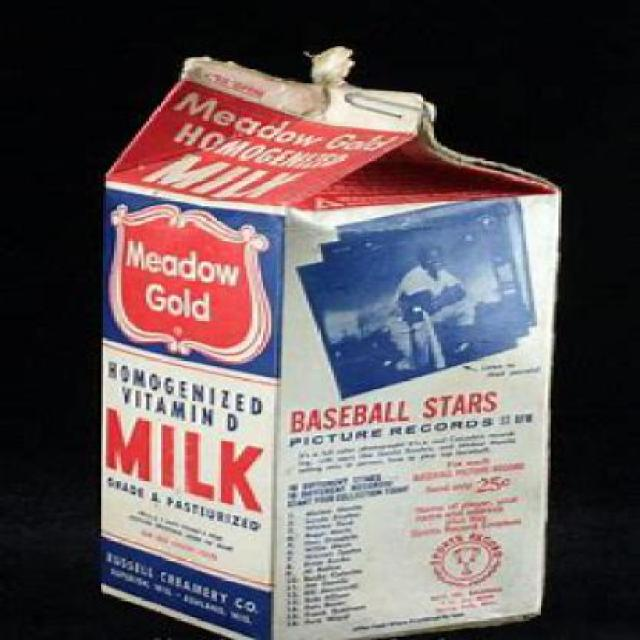drink carton: (101, 43, 564, 640)
